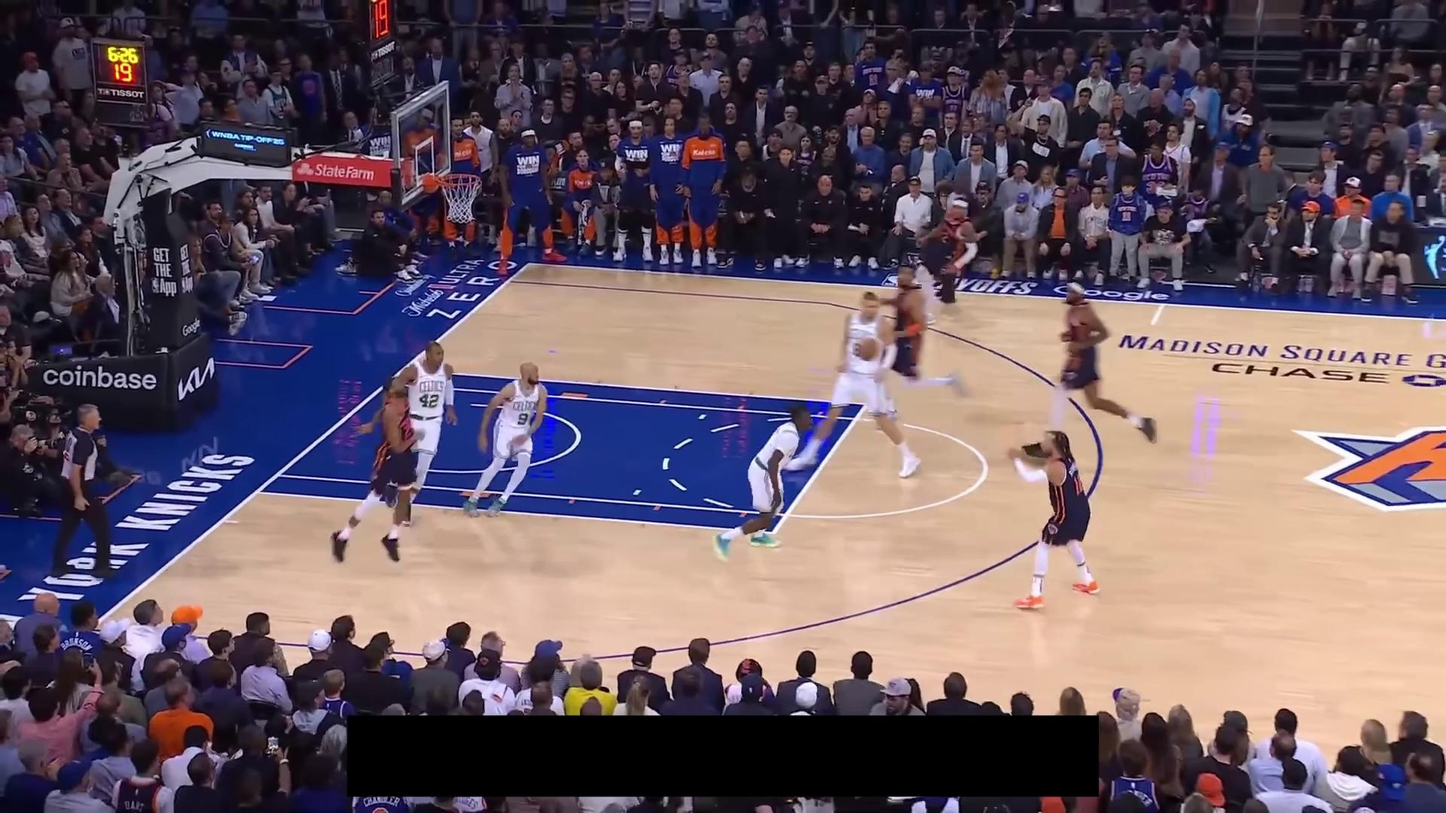ball: (858, 338, 880, 362)
number: (419, 392, 440, 409), (517, 412, 529, 426)
player: (786, 290, 921, 480), (1023, 279, 1158, 459), (330, 373, 428, 565), (1006, 425, 1101, 611), (867, 261, 968, 422), (713, 400, 811, 563), (460, 360, 548, 519), (387, 337, 459, 524), (912, 190, 987, 327)
referee: (48, 403, 122, 579)
rim: (438, 172, 482, 188)
